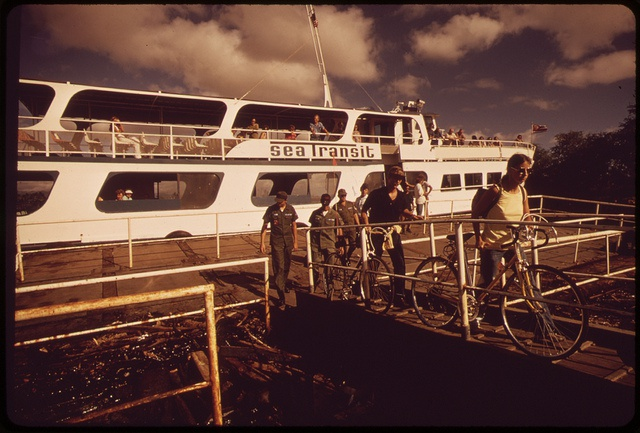non-vehicle: (413, 224, 586, 360), (320, 230, 393, 314)
